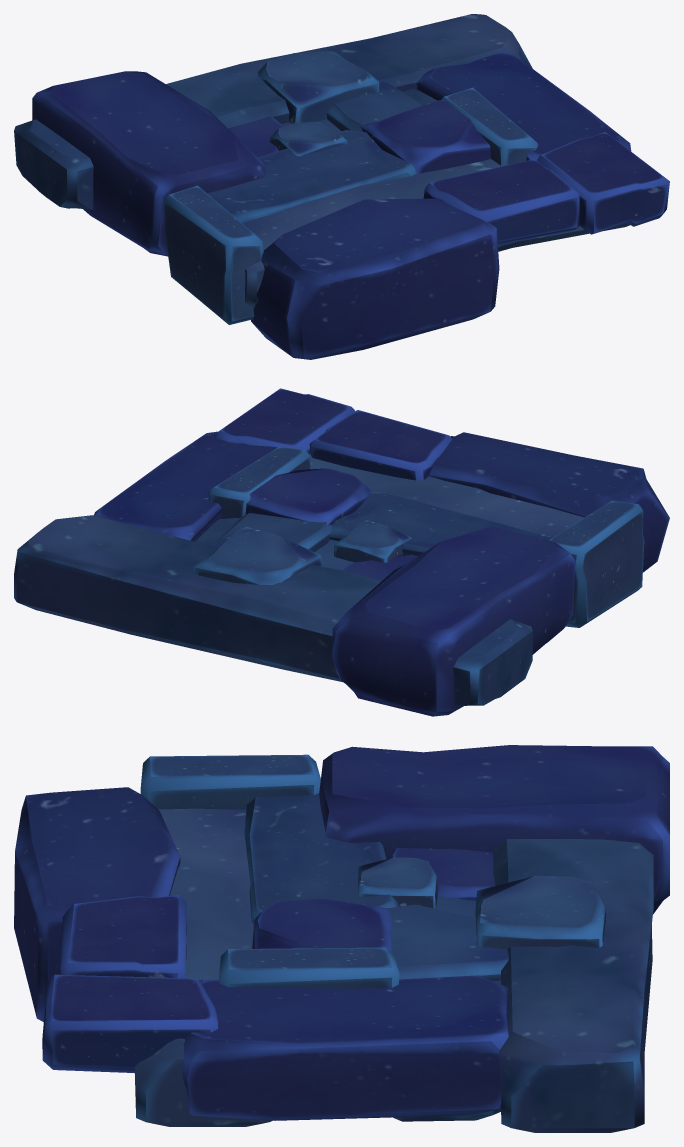
The model's file is msh_stone Foothold1.fbx.
The picture shows the model from 3 angles, top to bottom: view 1: azimuth 30°, elevation 25°; view 2: azimuth 150°, elevation 25°; view 3: azimuth 270°, elevation 25°; orthographic projection. The views are drawn at different scales.
Visible parts, largest first — view 1: Box031; view 2: Box031; view 3: Box031.
Part boxes in pixels (left/top/right/bottom): Box031: left=14, top=14, right=669, bottom=359; Box031: left=14, top=388, right=669, bottom=716; Box031: left=14, top=745, right=669, bottom=1132.
Size of the model in its own units: 399 by 105 by 367.
